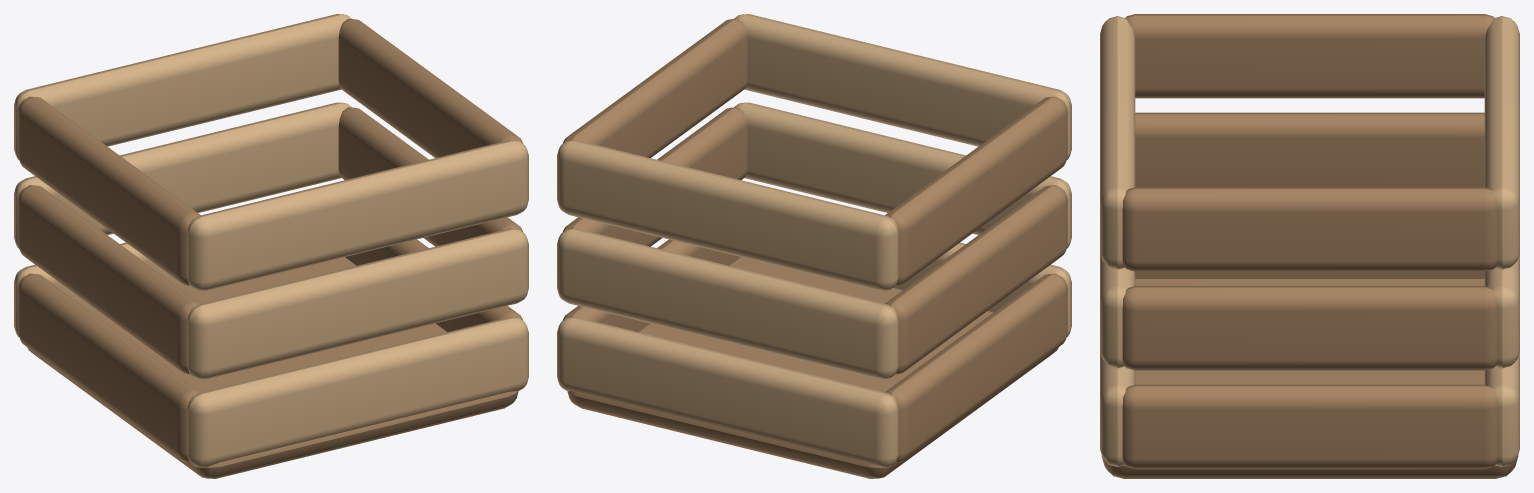
Rendered from crate.glb.
3 renders of one model, left to right at view 1: azimuth 30°, elevation 25°; view 2: azimuth 150°, elevation 25°; view 3: azimuth 270°, elevation 25°, orthographic. The views are drawn at different scales.
Parts seen in each view (by area): view 1: Side slat.004, Side slat.002, Side slat, Side slat.005, Side slat.003, End slat, End slat.002, End slat.004, End slat.005, Bottom, End slat.003, End slat.001 (+1 smaller); view 2: Side slat.005, Side slat.003, Side slat.001, Side slat.004, Side slat.002, End slat, End slat.002, End slat.004, End slat.005, Bottom, End slat.003, End slat.001 (+1 smaller); view 3: End slat.001, End slat.003, End slat.005, End slat.004, End slat.002, Bottom, Side slat.004, Side slat.005, End slat, Side slat, Side slat.001, Side slat.002 (+1 smaller).
Part boxes in pixels (bbox=[...]): Side slat.004: bbox=[187, 140, 528, 290]; Side slat.002: bbox=[187, 228, 528, 379]; Side slat: bbox=[187, 317, 528, 467]; Side slat.005: bbox=[14, 14, 351, 159]; Side slat.003: bbox=[14, 102, 351, 248]; End slat: bbox=[18, 273, 200, 462]; End slat.002: bbox=[18, 185, 200, 374]; End slat.004: bbox=[18, 96, 200, 285]; End slat.005: bbox=[338, 19, 523, 157]; Bottom: bbox=[27, 257, 518, 478]; End slat.003: bbox=[338, 107, 522, 246]; End slat.001: bbox=[345, 239, 523, 332]; Side slat.005: bbox=[557, 140, 898, 290]; Side slat.003: bbox=[557, 228, 898, 379]; Side slat.001: bbox=[557, 317, 898, 467]; Side slat.004: bbox=[734, 14, 1071, 159]; Side slat.002: bbox=[734, 102, 1071, 248]; End slat: bbox=[885, 273, 1067, 462]; End slat.002: bbox=[885, 185, 1067, 374]; End slat.004: bbox=[885, 96, 1067, 285]; End slat.005: bbox=[562, 19, 747, 157]; Bottom: bbox=[567, 257, 1058, 478]; End slat.003: bbox=[563, 107, 747, 246]; End slat.001: bbox=[562, 239, 740, 332]; End slat.001: bbox=[1122, 384, 1497, 469]; End slat.003: bbox=[1122, 286, 1497, 370]; End slat.005: bbox=[1122, 187, 1497, 271]; End slat.004: bbox=[1125, 14, 1494, 98]; End slat.002: bbox=[1135, 112, 1484, 187]; Bottom: bbox=[1101, 279, 1518, 478]; Side slat.004: bbox=[1100, 16, 1135, 269]; Side slat.005: bbox=[1484, 16, 1519, 269]; End slat: bbox=[1135, 271, 1484, 278]; Side slat: bbox=[1100, 351, 1135, 467]; Side slat.001: bbox=[1484, 351, 1519, 467]; Side slat.002: bbox=[1100, 252, 1135, 368].
Bounding box in the file's own units: 0.695 × 0.51 × 0.655.
